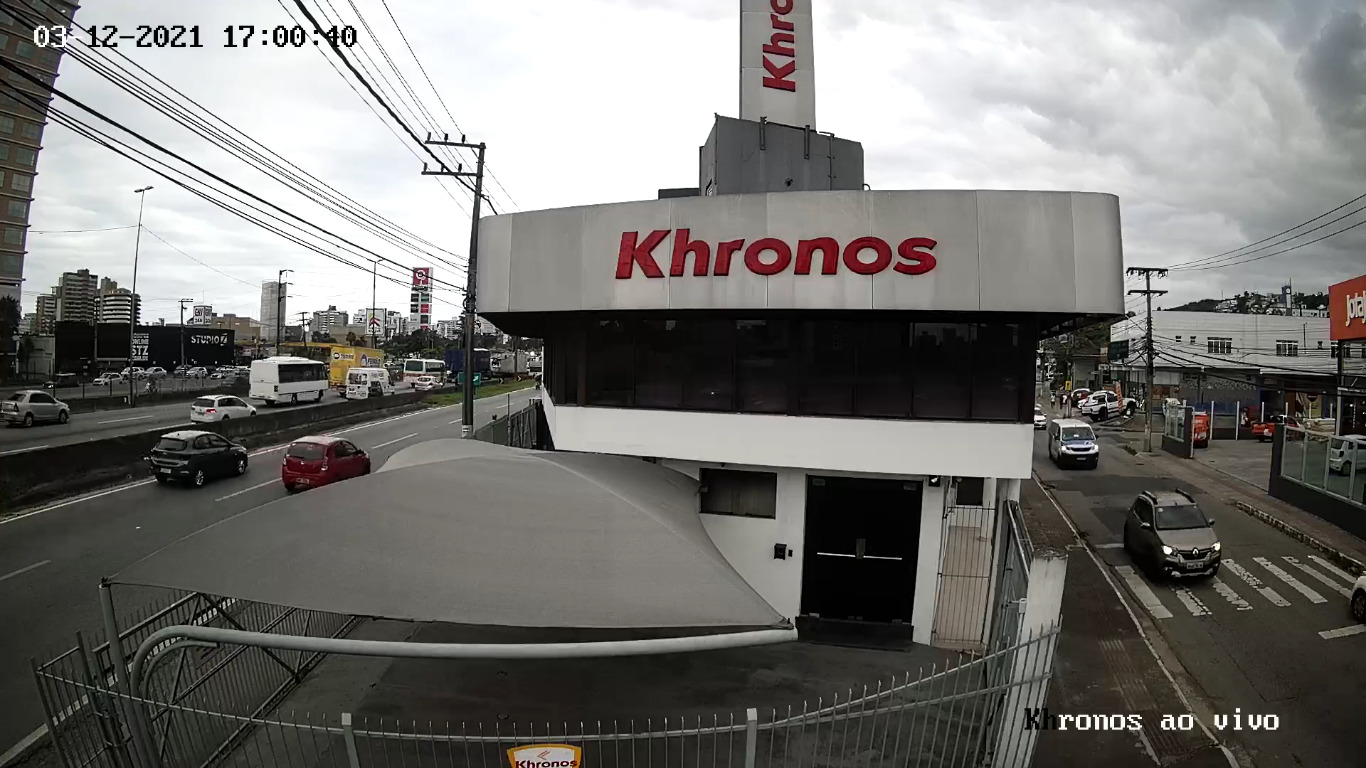car: (1121, 489, 1223, 586), (147, 426, 252, 489), (279, 433, 374, 493), (1, 386, 72, 430), (1047, 417, 1099, 471), (188, 392, 257, 431)
